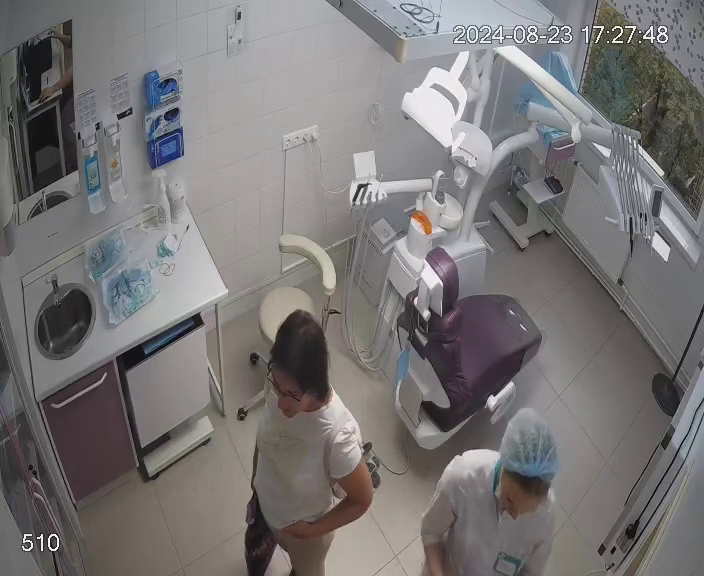Empty: (371, 248, 546, 450)
